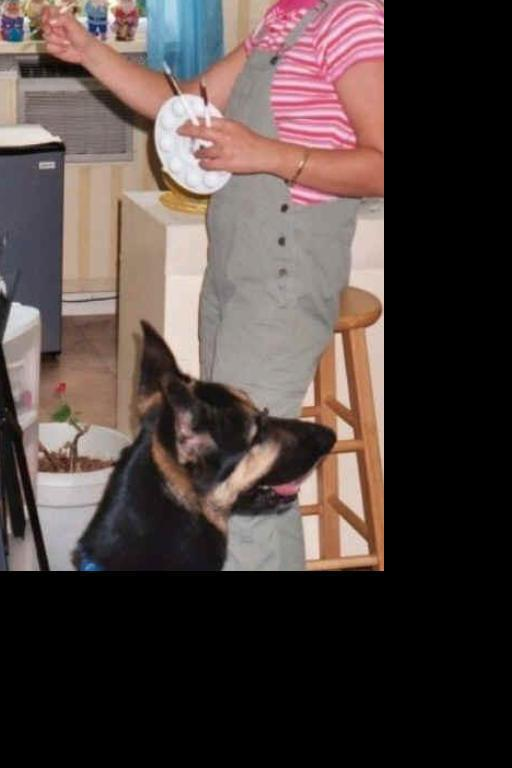Otro Obstaculo: (68, 320, 347, 604), (0, 0, 52, 600)
